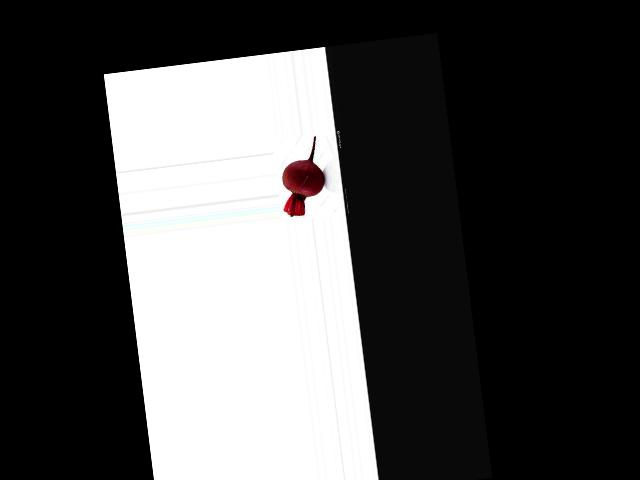beet: (276, 136, 328, 218)
